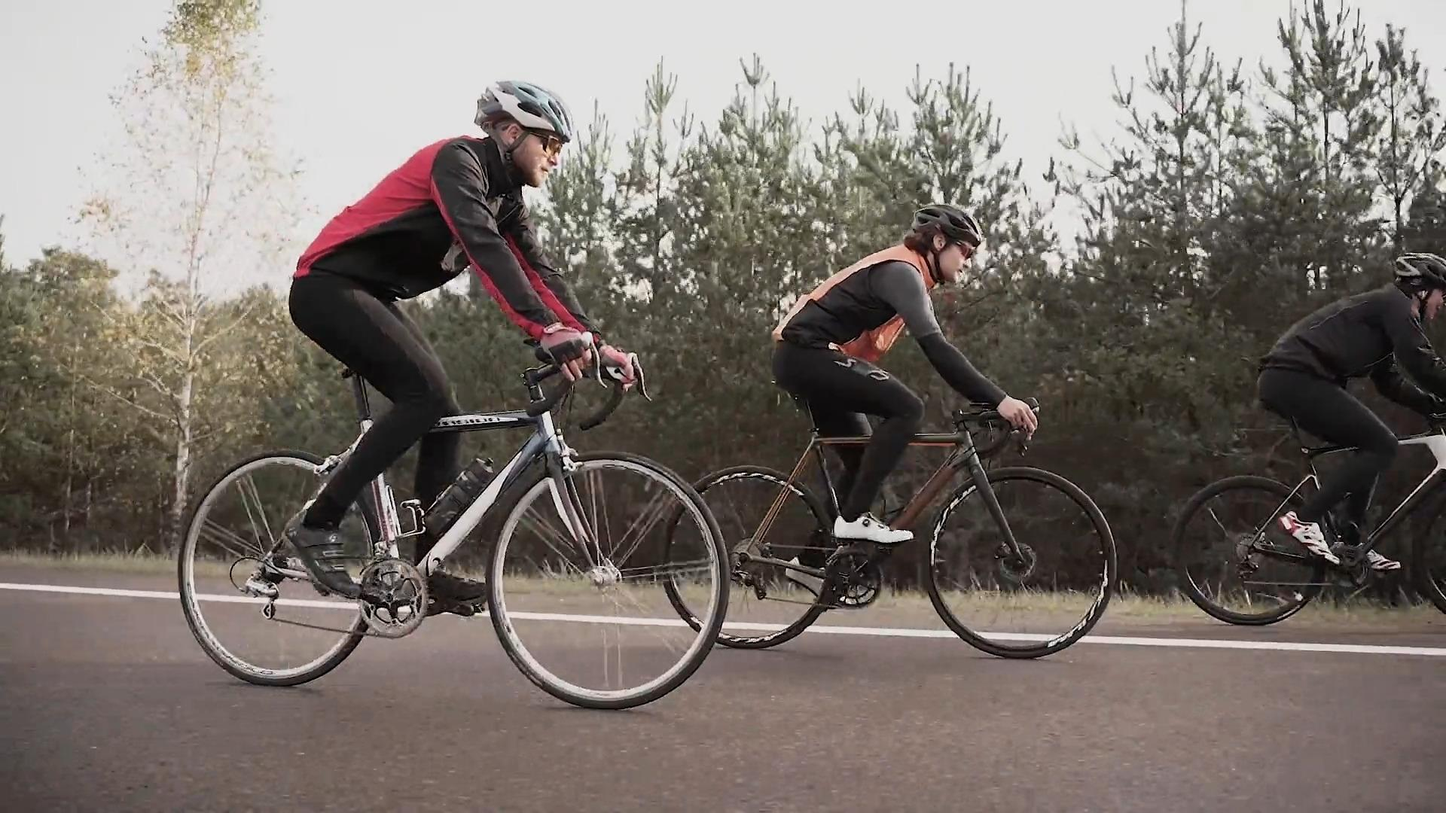bicyclist: (176, 79, 733, 712), (660, 204, 1119, 662), (1170, 252, 1446, 627)
helmet: (474, 79, 575, 189), (904, 204, 984, 285), (1395, 252, 1446, 323)
